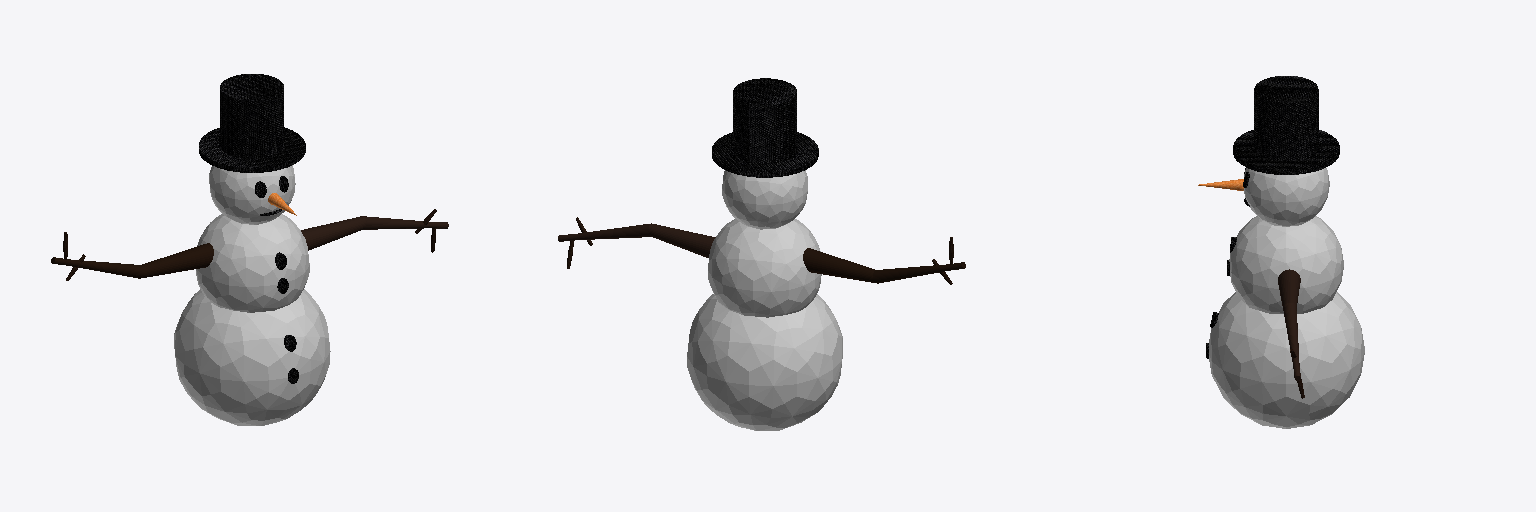
The picture shows the model from 3 angles: view 1: azimuth 30°, elevation 25°; view 2: azimuth 150°, elevation 25°; view 3: azimuth 270°, elevation 25°; orthographic projection.
Visible parts, largest first — view 1: Icosphere, Icosphere.001, Cylinder.006, Icosphere.002, Circle, Circle.001; view 2: Icosphere, Icosphere.001, Cylinder.006, Icosphere.002, Circle, Circle.001; view 3: Icosphere, Icosphere.001, Cylinder.006, Icosphere.002, Circle.001.
Part boxes in pixels (x1,y1,x2,y2): Icosphere: (174, 289, 330, 425); Icosphere.001: (196, 214, 309, 312); Cylinder.006: (199, 74, 305, 172); Icosphere.002: (209, 165, 295, 224); Circle: (51, 232, 213, 280); Circle.001: (301, 209, 448, 252); Icosphere: (687, 294, 842, 430); Icosphere.001: (708, 219, 821, 317); Cylinder.006: (712, 78, 818, 177); Icosphere.002: (722, 170, 807, 229); Circle: (803, 237, 965, 284); Circle.001: (558, 217, 715, 268); Icosphere: (1209, 292, 1364, 428); Icosphere.001: (1229, 216, 1343, 313); Cylinder.006: (1233, 76, 1339, 174); Icosphere.002: (1244, 168, 1329, 226); Circle.001: (1278, 269, 1304, 398).
Size of the model in its own units: 5.43 by 4.32 by 2.
Materials: 4 (3 with a texture image).